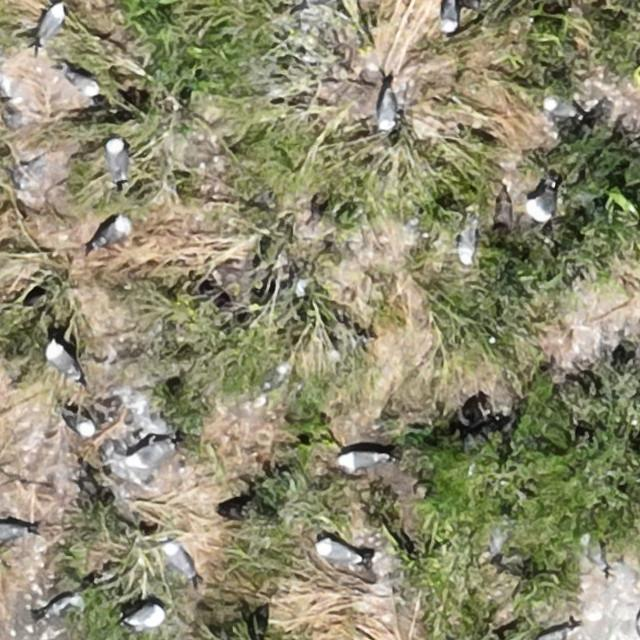umineko: (126, 436, 176, 466), (582, 531, 612, 575), (460, 204, 478, 263), (47, 345, 77, 377), (318, 542, 358, 566), (165, 545, 193, 576), (94, 219, 126, 246), (40, 5, 64, 40), (126, 606, 164, 628), (69, 73, 101, 99), (340, 450, 383, 469), (107, 140, 127, 178), (530, 190, 553, 220), (379, 96, 396, 132), (263, 364, 287, 389), (545, 99, 578, 117), (71, 413, 96, 436), (442, 1, 458, 32), (2, 524, 24, 542)
